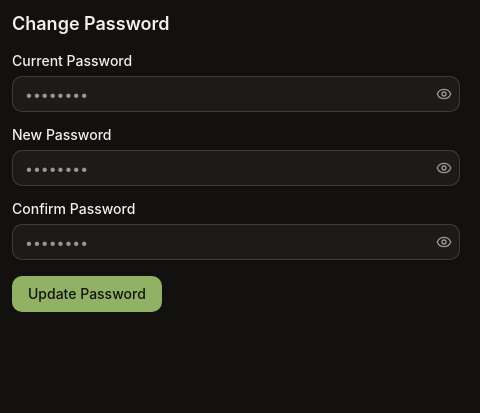
Scenario: ChangePassword › validates that current_password must be at least 8 characters
In the password field with test id "current-password-input": [236, 94] box top-left (12, 76), bottom-right (460, 112), type "short"
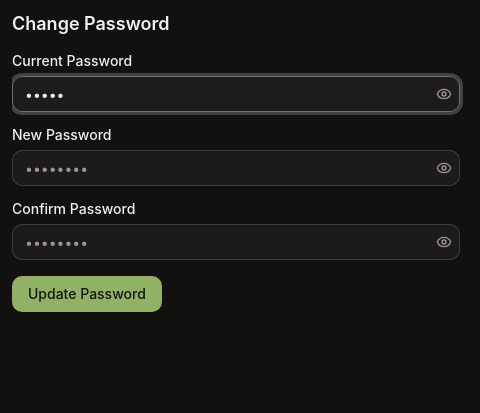
Click the button "Update Password": [87, 294] box top-left (12, 276), bottom-right (162, 312)
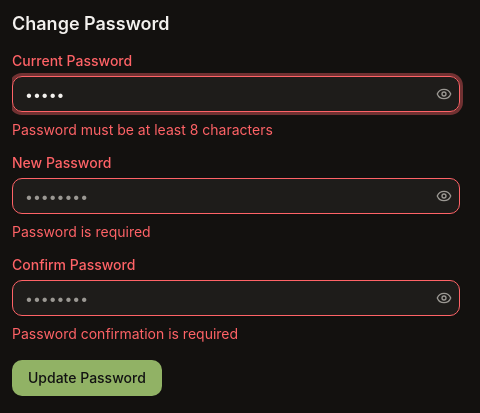
Check: the text "Password must be at least 8 characters" is shown, box top-left (12, 121), bottom-right (273, 138)
